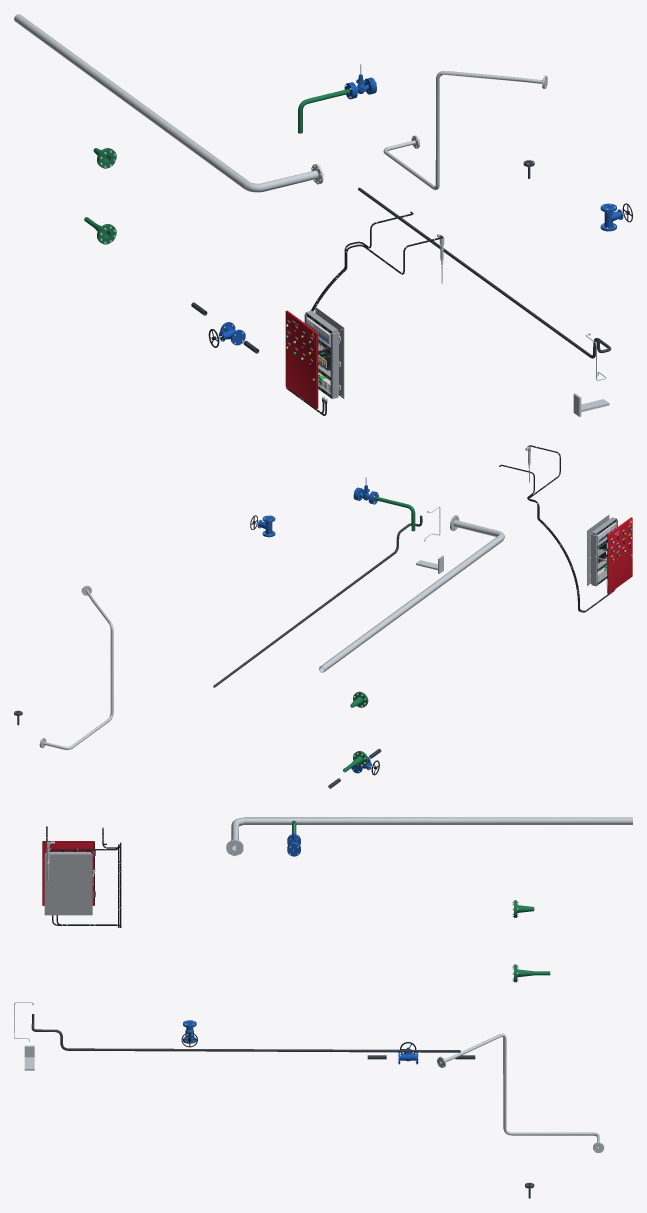
3 views of the same model, one above another, from view 1: azimuth 30°, elevation 25°; view 2: azimuth 150°, elevation 25°; view 3: azimuth 270°, elevation 25° (orthographic). The views are drawn at different scales.
Visible parts, largest first — view 1: safety_vent_1 / steel, cabinet_door / cabinet_door_5.npz, cabinet_interior / cabinet_interior_0.npz, trap_gap_to_bdv / steel, tds_common / dark, eco_inlet_adapter / green, wiring_low_level_1 / black, drain_isolation_1 / drain_isolation_1_0.npz; view 2: safety_vent_1 / steel, cabinet_door / cabinet_door_5.npz, cabinet_interior / cabinet_interior_0.npz, trap_gap_to_bdv / steel, tds_common / dark; view 3: safety_vent_1 / steel, cabinet_interior / cabinet_interior_0.npz, tds_common / dark, trap_gap_to_bdv / steel, cabinet_door / cabinet_door_5.npz.
Boxes of the visible parts, x1=… form: safety_vent_1 / steel: x1=14, y1=14, x2=323, y2=192; cabinet_door / cabinet_door_5.npz: x1=285, y1=310, x2=318, y2=408; cabinet_interior / cabinet_interior_0.npz: x1=304, y1=307, x2=344, y2=398; trap_gap_to_bdv / steel: x1=383, y1=71, x2=547, y2=190; tds_common / dark: x1=358, y1=187, x2=611, y2=358; eco_inlet_adapter / green: x1=84, y1=148, x2=116, y2=244; wiring_low_level_1 / black: x1=288, y1=235, x2=442, y2=415; drain_isolation_1 / drain_isolation_1_0.npz: x1=208, y1=322, x2=245, y2=347; safety_vent_1 / steel: x1=319, y1=515, x2=504, y2=672; cabinet_door / cabinet_door_5.npz: x1=606, y1=517, x2=632, y2=593; cabinet_interior / cabinet_interior_0.npz: x1=587, y1=515, x2=617, y2=586; trap_gap_to_bdv / steel: x1=39, y1=585, x2=113, y2=749; tds_common / dark: x1=213, y1=515, x2=422, y2=687; safety_vent_1 / steel: x1=226, y1=817, x2=632, y2=855; cabinet_interior / cabinet_interior_0.npz: x1=44, y1=852, x2=95, y2=915; tds_common / dark: x1=31, y1=1014, x2=460, y2=1052; trap_gap_to_bdv / steel: x1=437, y1=1033, x2=603, y2=1152; cabinet_door / cabinet_door_5.npz: x1=42, y1=841, x2=95, y2=905.
Bounding box in the file's own units: 5.04 × 2.97 × 6.28.
